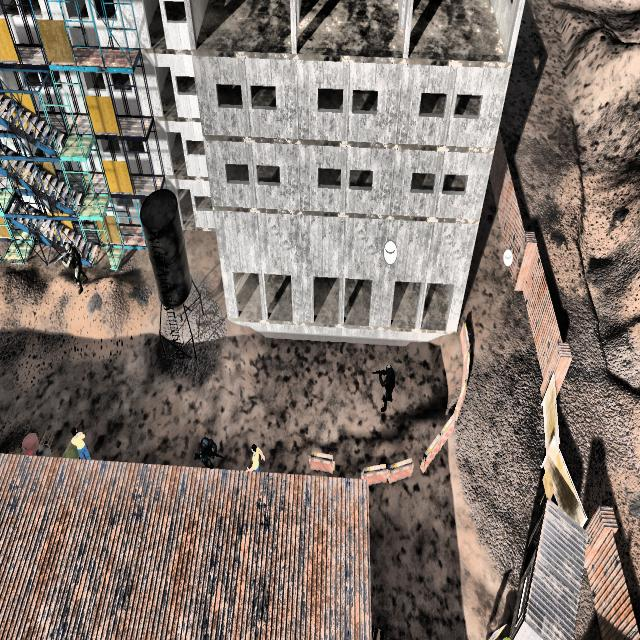bad: (370, 349, 403, 424), (55, 234, 89, 297), (190, 423, 220, 473)
good: (66, 418, 92, 463), (242, 437, 266, 473)
